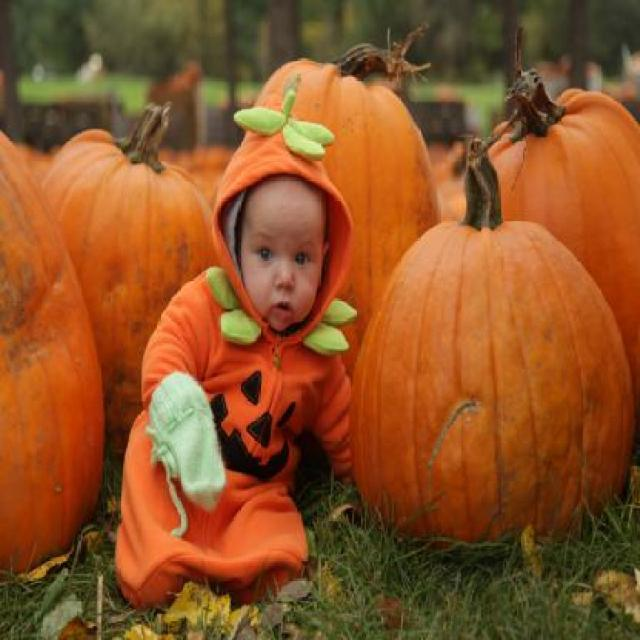Pumpkin: (352, 127, 634, 556), (431, 29, 640, 458), (239, 26, 433, 386), (38, 97, 216, 469), (0, 127, 106, 604)
